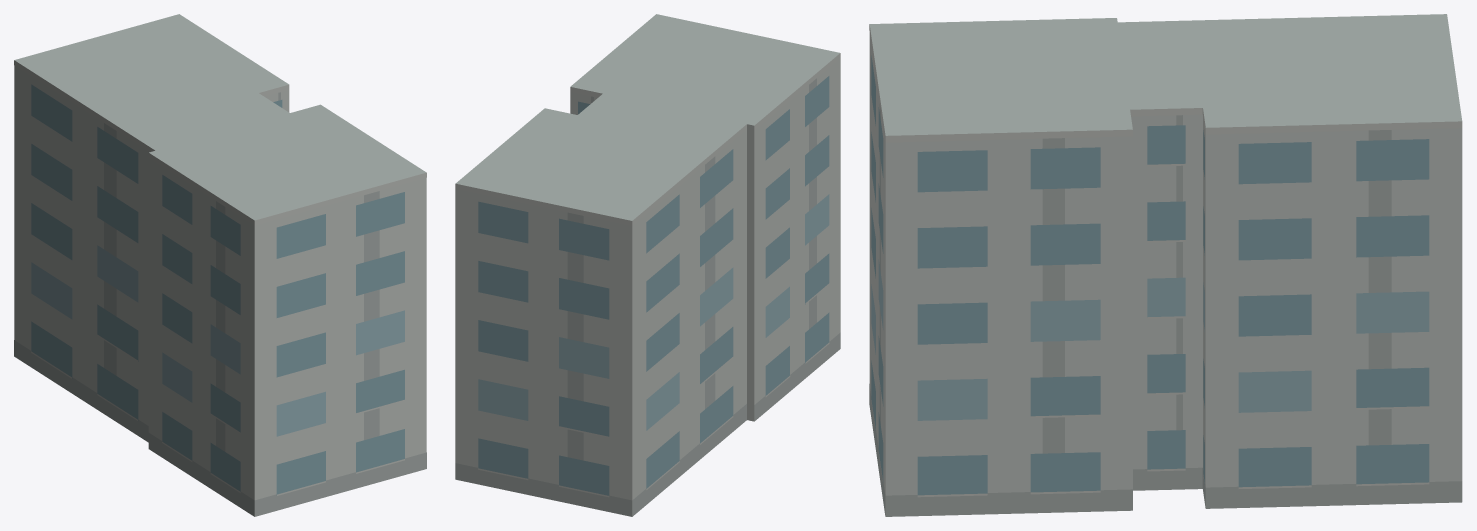
The model's file is survey-upis-32614064.glb.
3 views of the same model, side by side, from view 1: azimuth 30°, elevation 25°; view 2: azimuth 150°, elevation 25°; view 3: azimuth 270°, elevation 25° (orthographic). The views are drawn at different scales.
Parts seen in each view (by area): view 1: survey-upis-32614064.tmp; view 2: survey-upis-32614064.tmp; view 3: survey-upis-32614064.tmp.
Part boxes in pixels (x1,y1,x2,y2): survey-upis-32614064.tmp: (14, 14, 426, 516); survey-upis-32614064.tmp: (455, 14, 840, 516); survey-upis-32614064.tmp: (869, 14, 1462, 516).
Bounding box in the file's own units: 9.47 × 13.8 × 19.47.
